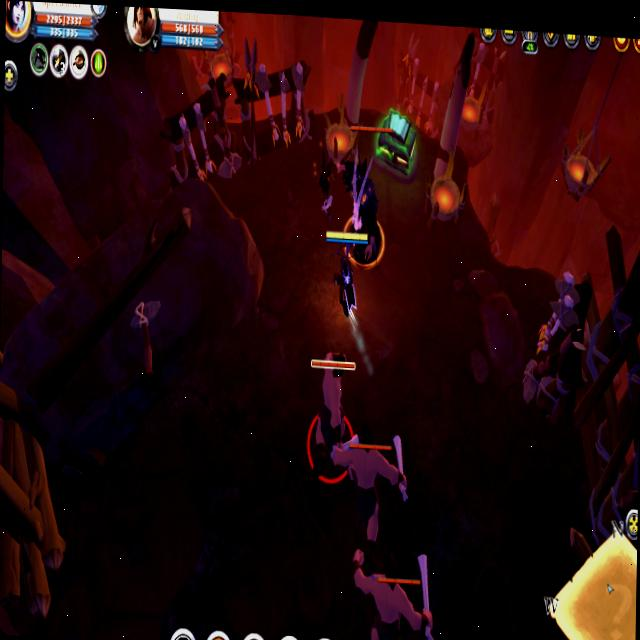ore: (324, 118, 400, 275), (329, 421, 412, 560), (300, 352, 362, 488), (350, 540, 434, 640)
red: (316, 224, 371, 325)
